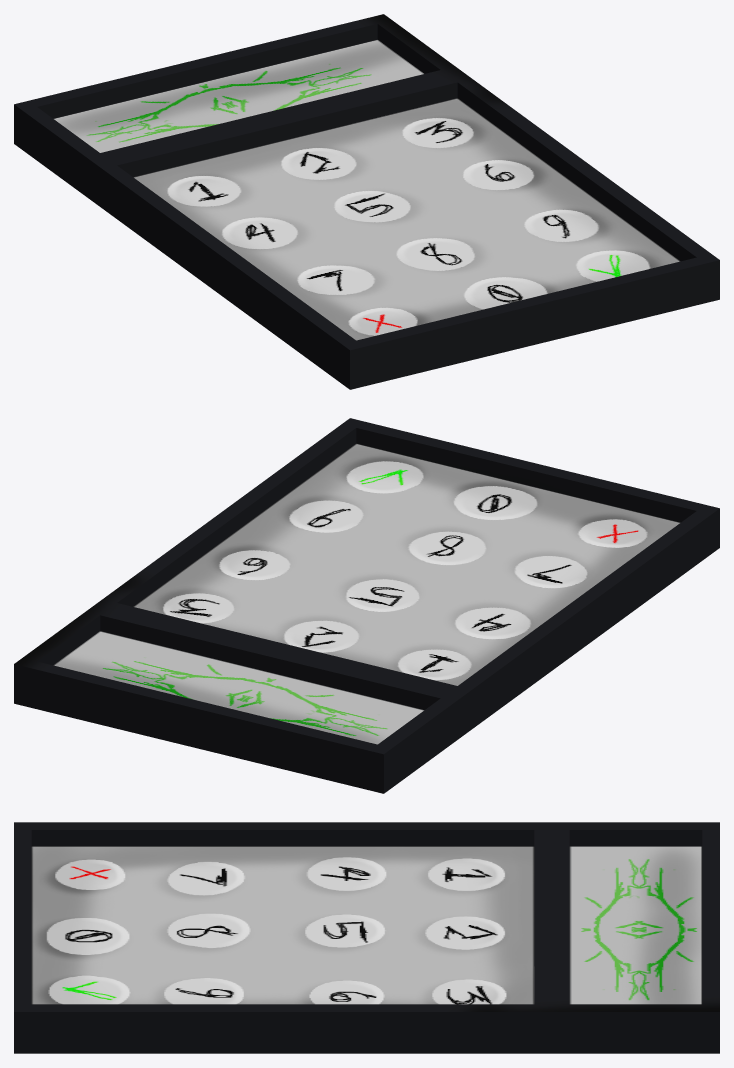
File: Keypad.fbx
3 renders of one model, top to bottom at view 1: azimuth 30°, elevation 25°; view 2: azimuth 150°, elevation 25°; view 3: azimuth 270°, elevation 25°, orthographic. The views are drawn at different scales.
Parts seen in each view (by area): view 1: pCube1; view 2: pCube1; view 3: pCube1.
Boxes of the visible parts, <box> form: pCube1: <box>14,14,719,389</box>; pCube1: <box>14,418,719,793</box>; pCube1: <box>14,822,719,1053</box>.
Size of the model in its own units: 2.52 by 0.2579 by 3.97.
Materials: 1 (1 with a texture image).
